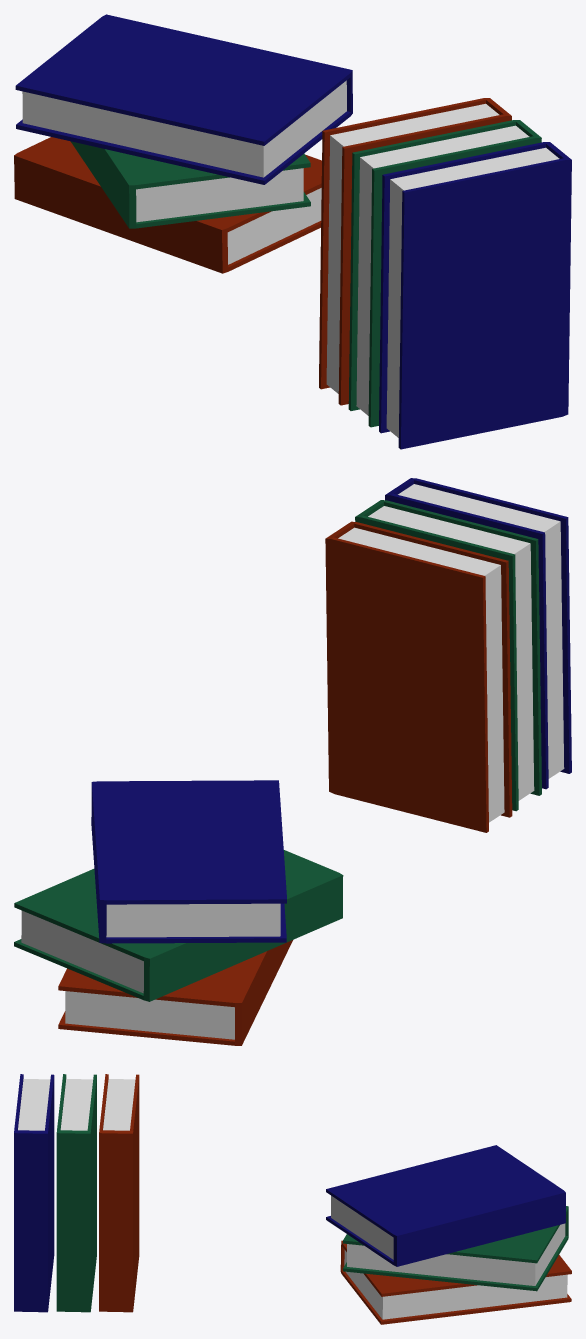
File: books.fbx
The picture shows the model from 3 angles, top to bottom: view 1: azimuth 30°, elevation 25°; view 2: azimuth 150°, elevation 25°; view 3: azimuth 270°, elevation 25°; orthographic projection. The views are drawn at different scales.
Parts seen in each view (by area): view 1: blue, blue.001, red.001, green, red, green.001; view 2: red, blue.001, green.001, blue, green, red.001; view 3: blue.001, blue, red, green, green.001, red.001.
Part boxes in pixels (x1,y1,x2,y2): blue: (379,142,571,449); blue.001: (15,14,352,184); red.001: (14,137,321,273); green: (348,120,541,427); red: (319,98,511,405); green.001: (70,141,310,228); red: (325,521,512,832); blue.001: (91,780,286,943); green.001: (14,850,343,1001); blue: (385,478,571,789); green: (355,500,541,811); red.001: (58,940,292,1045); blue.001: (326,1145,565,1266); blue: (14,1074,54,1312); red: (99,1074,139,1312); green: (56,1074,96,1312); green.001: (343,1206,568,1291); red.001: (340,1240,571,1324).
Size of the model in its own units: 625 by 585 by 1596.
